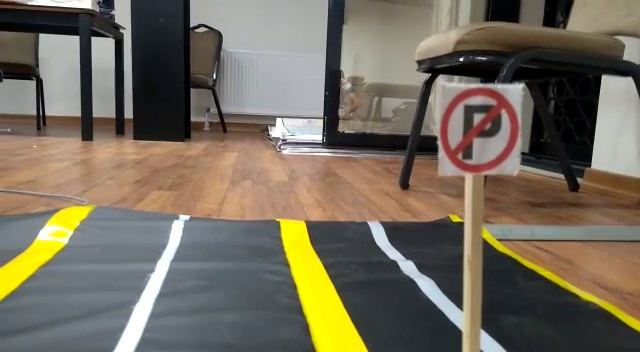park_yapilmaz: (438, 87, 522, 178)
